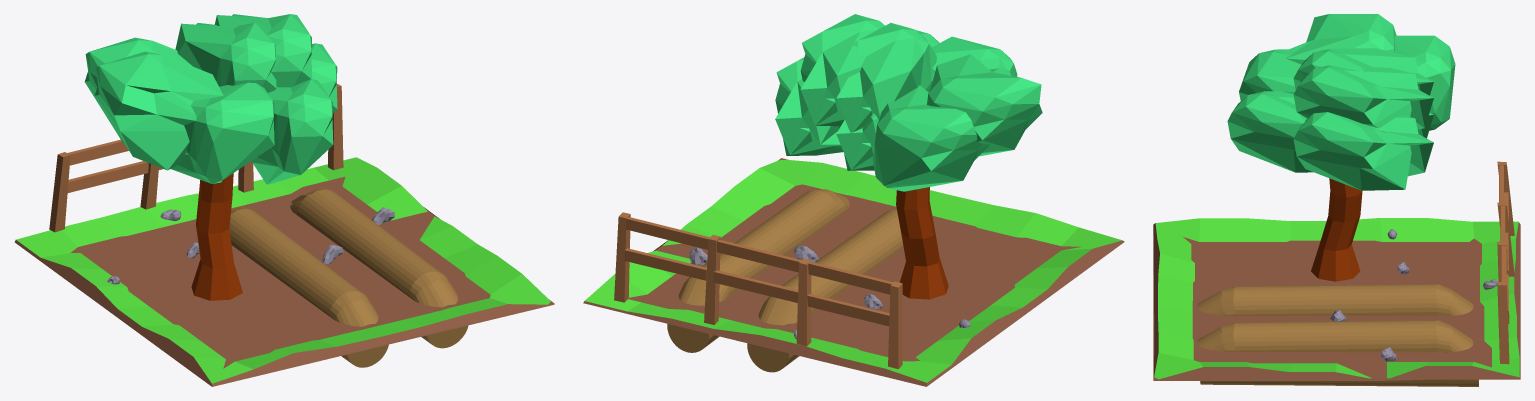
Rendered from brownfieldfence2.fbx.
The picture shows the model from 3 angles, left to right: view 1: azimuth 30°, elevation 25°; view 2: azimuth 150°, elevation 25°; view 3: azimuth 270°, elevation 25°; orthographic projection. The views are drawn at different scales.
Parts seen in each view (by area): view 1: Cube; view 2: Cube; view 3: Cube.
Part boxes in pixels (left/top/right/bottom): Cube: left=14, top=14, right=554, bottom=386; Cube: left=583, top=14, right=1124, bottom=386; Cube: left=1153, top=14, right=1520, bottom=386.
Bounding box in the file's own units: 995 × 803 × 977.
